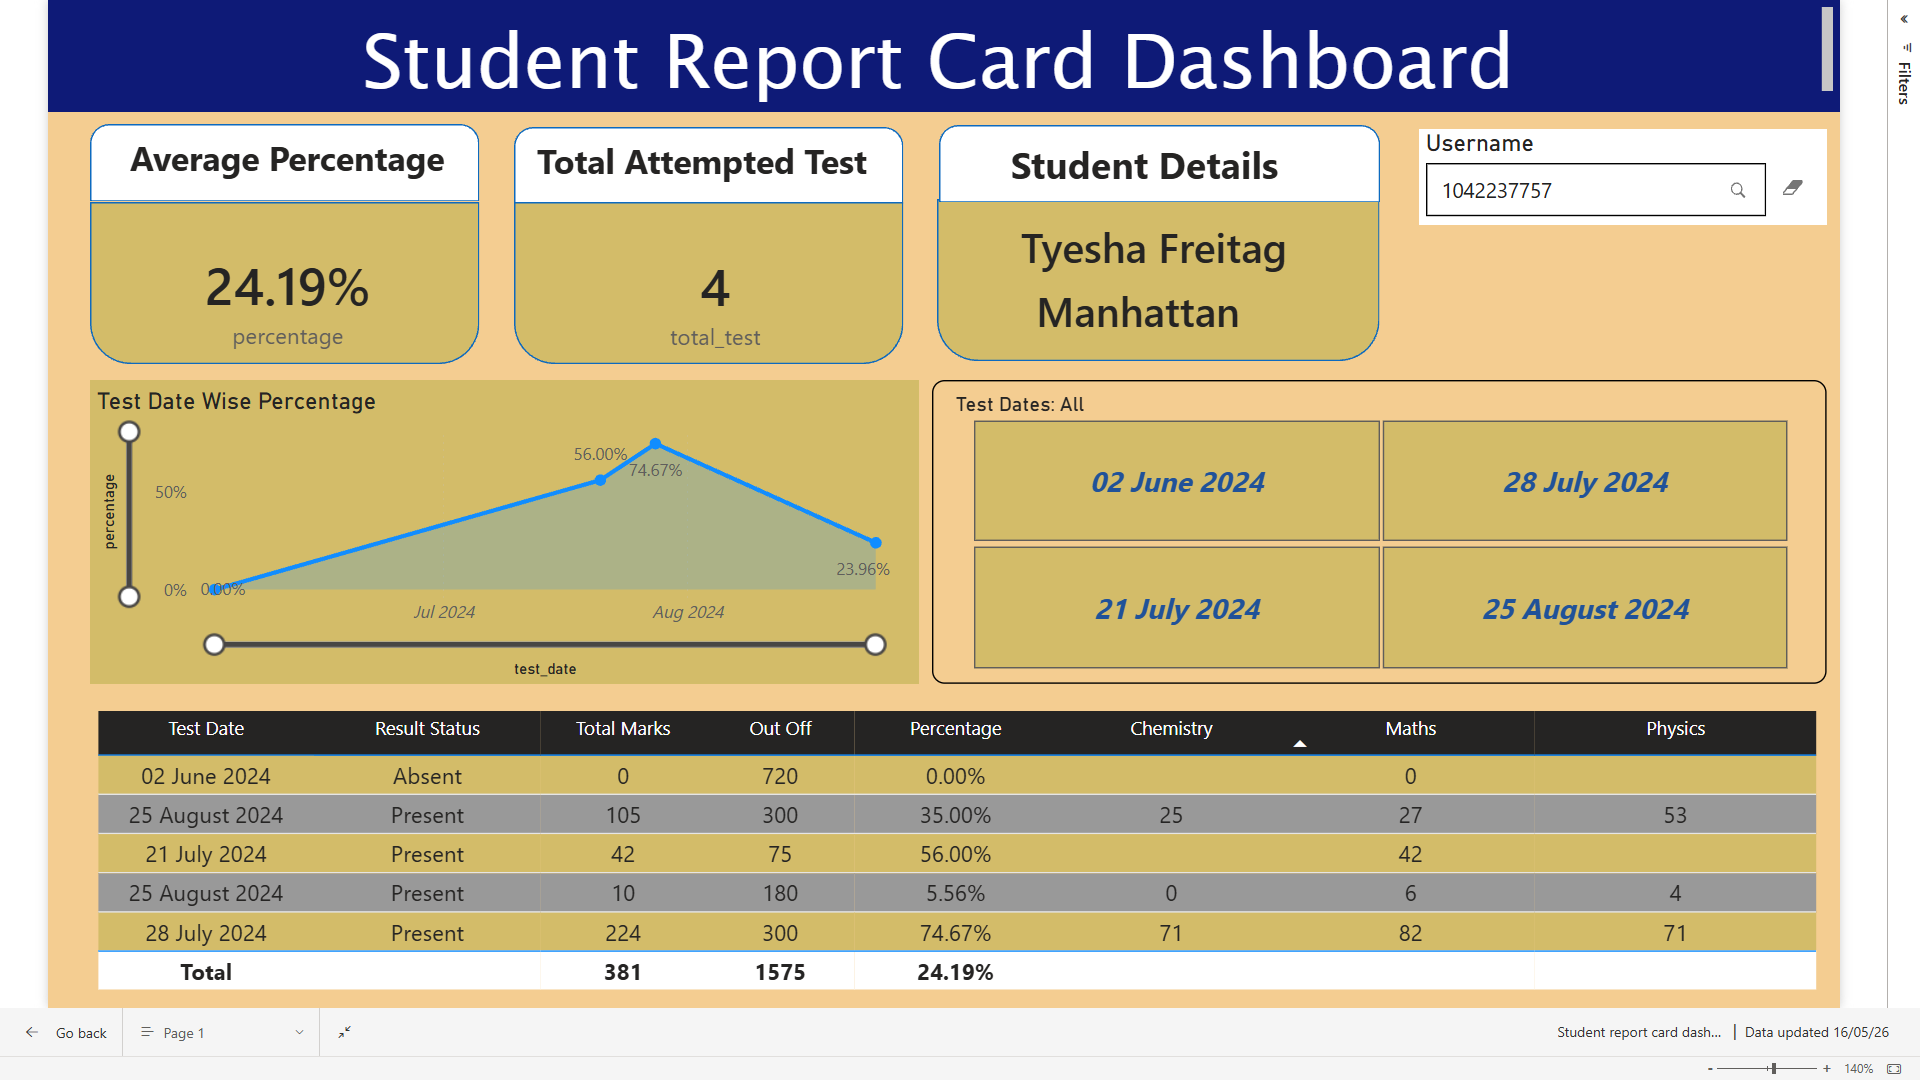

What the dashboard file says about the page in this screenshot:
{"tool":"powerbi","page":{"name":"Page 1","canvas":[1280,720],"ordinal":1},"visuals":[{"type":"textbox","box":[0,0,1280,79.8],"z":0},{"type":"shape","box":[30.2,88.5,278.2,55.4],"z":1000},{"type":"textbox","box":[53.5,91.4,242.2,52.5],"z":2000},{"type":"shape","box":[30.2,144,278.2,115.7],"z":3000},{"type":"cardVisual","fields":{"Data":["Final_data.Avg_percentage"]},"box":[77.8,155.6,187.7,115.7],"z":4000},{"type":"shape","box":[332.9,90.7,278.2,55.4],"z":5000},{"type":"textbox","box":[344.3,93.4,253.9,52.5],"z":6000},{"type":"shape","box":[332.6,144,278.2,115.7],"z":7000},{"type":"cardVisual","fields":{"Data":["Final_data.total_test"]},"box":[391,156.6,172.2,115.7],"z":8000},{"type":"shape","box":[635.1,142,316.1,115.7],"z":8500},{"type":"textFilter25A4896A83E0487089E2B90C9AE57C8A","title":"Username","fields":{"field":["Final_data.Phone"]},"box":[979.5,92.4,290.8,68.1],"z":9000},{"type":"cardVisual","fields":{"Data":["Min(Final_data.Full Name)"]},"box":[622.5,146.9,336.5,67.1],"z":10000},{"type":"lineChart","title":"Test Date Wise Percentage ","fields":{"Y":["Final_data.percentage"],"Category":["Final_data.test_date"]},"box":[30.2,271.4,592.3,216.9],"z":11000},{"type":"tableEx","fields":{"Values":["Final_data.test_date","Final_data.resultstatus","Sum(Final_data.new_total)","Sum(Final_data.pp_totalmarks)","Final_data.percentage","Final_data.chemistry","Final_data.maths_new","Final_data.physics"]},"box":[30.2,502.9,1240.1,216.9],"z":12000},{"type":"slicer","fields":{"Values":["Final_data.test_date"]},"box":[631.2,271.4,639,216.9],"z":13000},{"type":"cardVisual","fields":{"Data":["Min(Final_data.Center)"]},"box":[610.8,192.6,336.5,67.1],"z":14000},{"type":"shape","box":[636.1,89.5,315.1,55.4],"z":15000},{"type":"textbox","box":[646.8,93.4,272.3,52.5],"z":17000},{"type":"actionButton","box":[1230.8,0,49.4,79.9],"z":17001}]}

Visuals, with their boxes on the page's 1280x720 design canvas (x1, y1, x2, y2). These are canvas units, not pixel positions in the 1920x1080 screenshot, which may show the page scaled, cropped or inside an application window:
textbox: left=0, top=0, right=1280, bottom=80
shape: left=30, top=88, right=308, bottom=144
textbox: left=54, top=91, right=296, bottom=144
shape: left=30, top=144, right=308, bottom=260
cardVisual - Final_data.Avg_percentage: left=78, top=156, right=266, bottom=271
shape: left=333, top=91, right=611, bottom=146
textbox: left=344, top=93, right=598, bottom=146
shape: left=333, top=144, right=611, bottom=260
cardVisual - Final_data.total_test: left=391, top=157, right=563, bottom=272
shape: left=635, top=142, right=951, bottom=258
"Username" textFilter25A4896A83E0487089E2B90C9AE57C8A: left=980, top=92, right=1270, bottom=160
cardVisual - Min(Final_data.Full Name): left=622, top=147, right=959, bottom=214
"Test Date Wise Percentage " lineChart: left=30, top=271, right=622, bottom=488
tableEx - Final_data.test_date x Final_data.resultstatus: left=30, top=503, right=1270, bottom=720
slicer - Final_data.test_date: left=631, top=271, right=1270, bottom=488
cardVisual - Min(Final_data.Center): left=611, top=193, right=947, bottom=260
shape: left=636, top=90, right=951, bottom=145
textbox: left=647, top=93, right=919, bottom=146
actionButton: left=1231, top=0, right=1280, bottom=80
